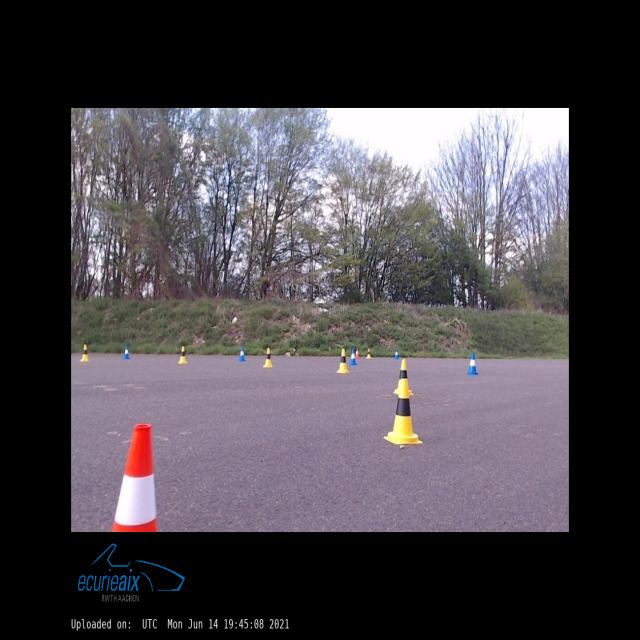blue_cone: (467, 353, 478, 375), (350, 348, 357, 364), (123, 346, 130, 360), (239, 347, 245, 361), (394, 348, 399, 358)
orange_cone: (112, 424, 158, 532), (355, 348, 360, 358)
yellow_cone: (383, 380, 422, 444), (393, 359, 414, 395), (337, 349, 349, 373), (263, 348, 273, 367), (81, 345, 89, 361), (179, 347, 187, 363), (366, 348, 372, 358)
